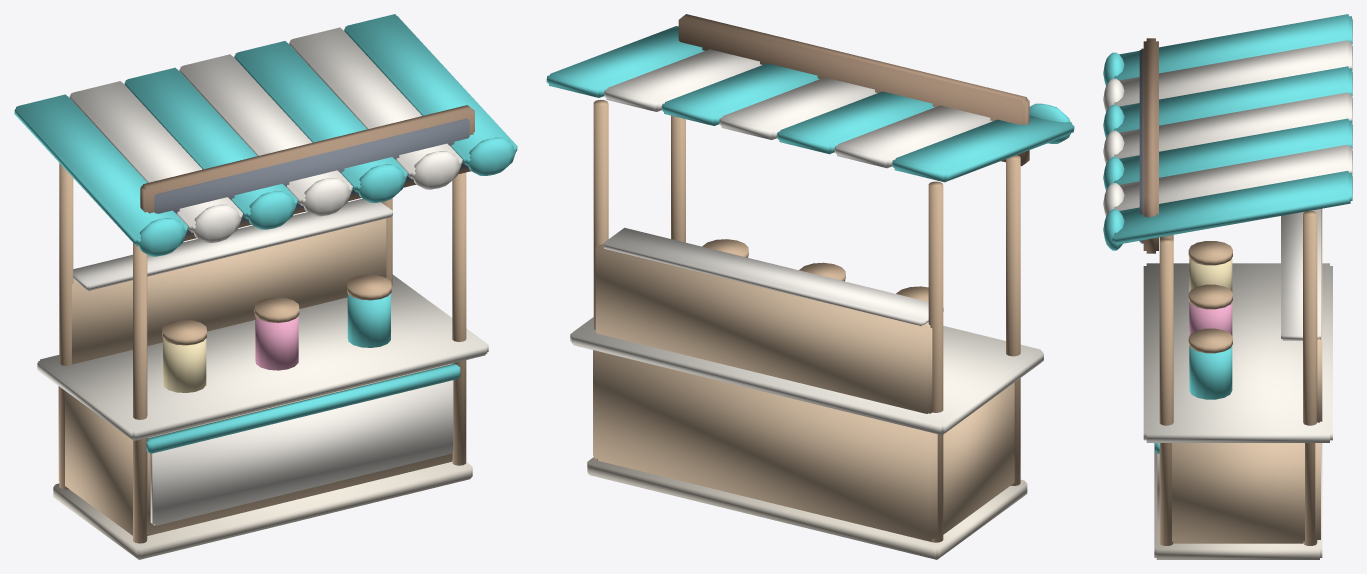
Rendered from MarketStall_SucosRefri.fbx.
3 views of the same model, side by side, from view 1: azimuth 30°, elevation 25°; view 2: azimuth 150°, elevation 25°; view 3: azimuth 270°, elevation 25° (orthographic). The views are drawn at different scales.
Parts seen in each view (by area): view 1: Estab_Base, Estab_CanopyFade; view 2: Estab_Base, Estab_CanopyFade; view 3: Estab_Base, Estab_CanopyFade.
Part boxes in pixels (x1,y1,x2,y2): Estab_Base: (37, 105, 488, 559); Estab_CanopyFade: (14, 14, 517, 256); Estab_Base: (570, 14, 1043, 559); Estab_CanopyFade: (546, 26, 1074, 182); Estab_Base: (1139, 38, 1332, 559); Estab_CanopyFade: (1103, 14, 1352, 250).
Size of the model in its own units: 2.82 by 2.73 by 1.63.
